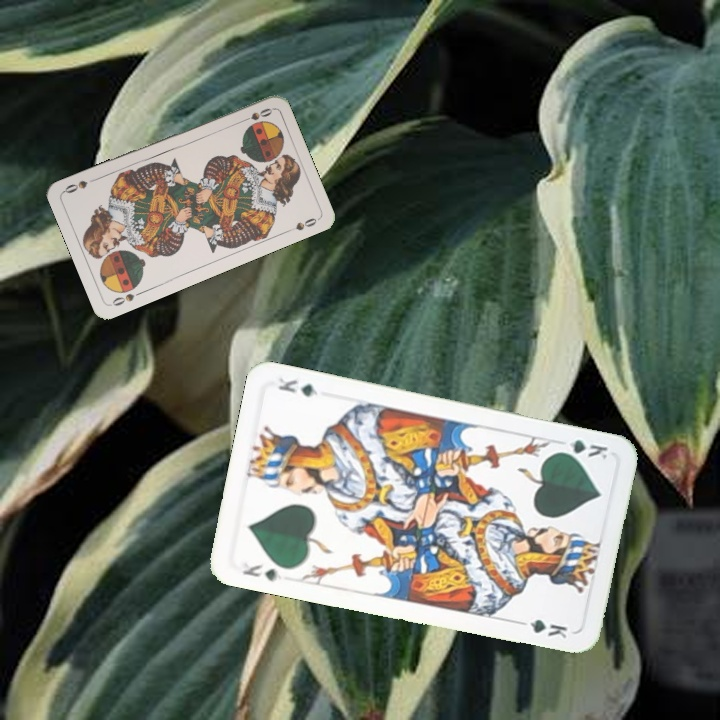GK: (553, 435, 611, 463), (239, 560, 286, 584)
SO: (235, 104, 275, 126), (107, 287, 146, 308)
